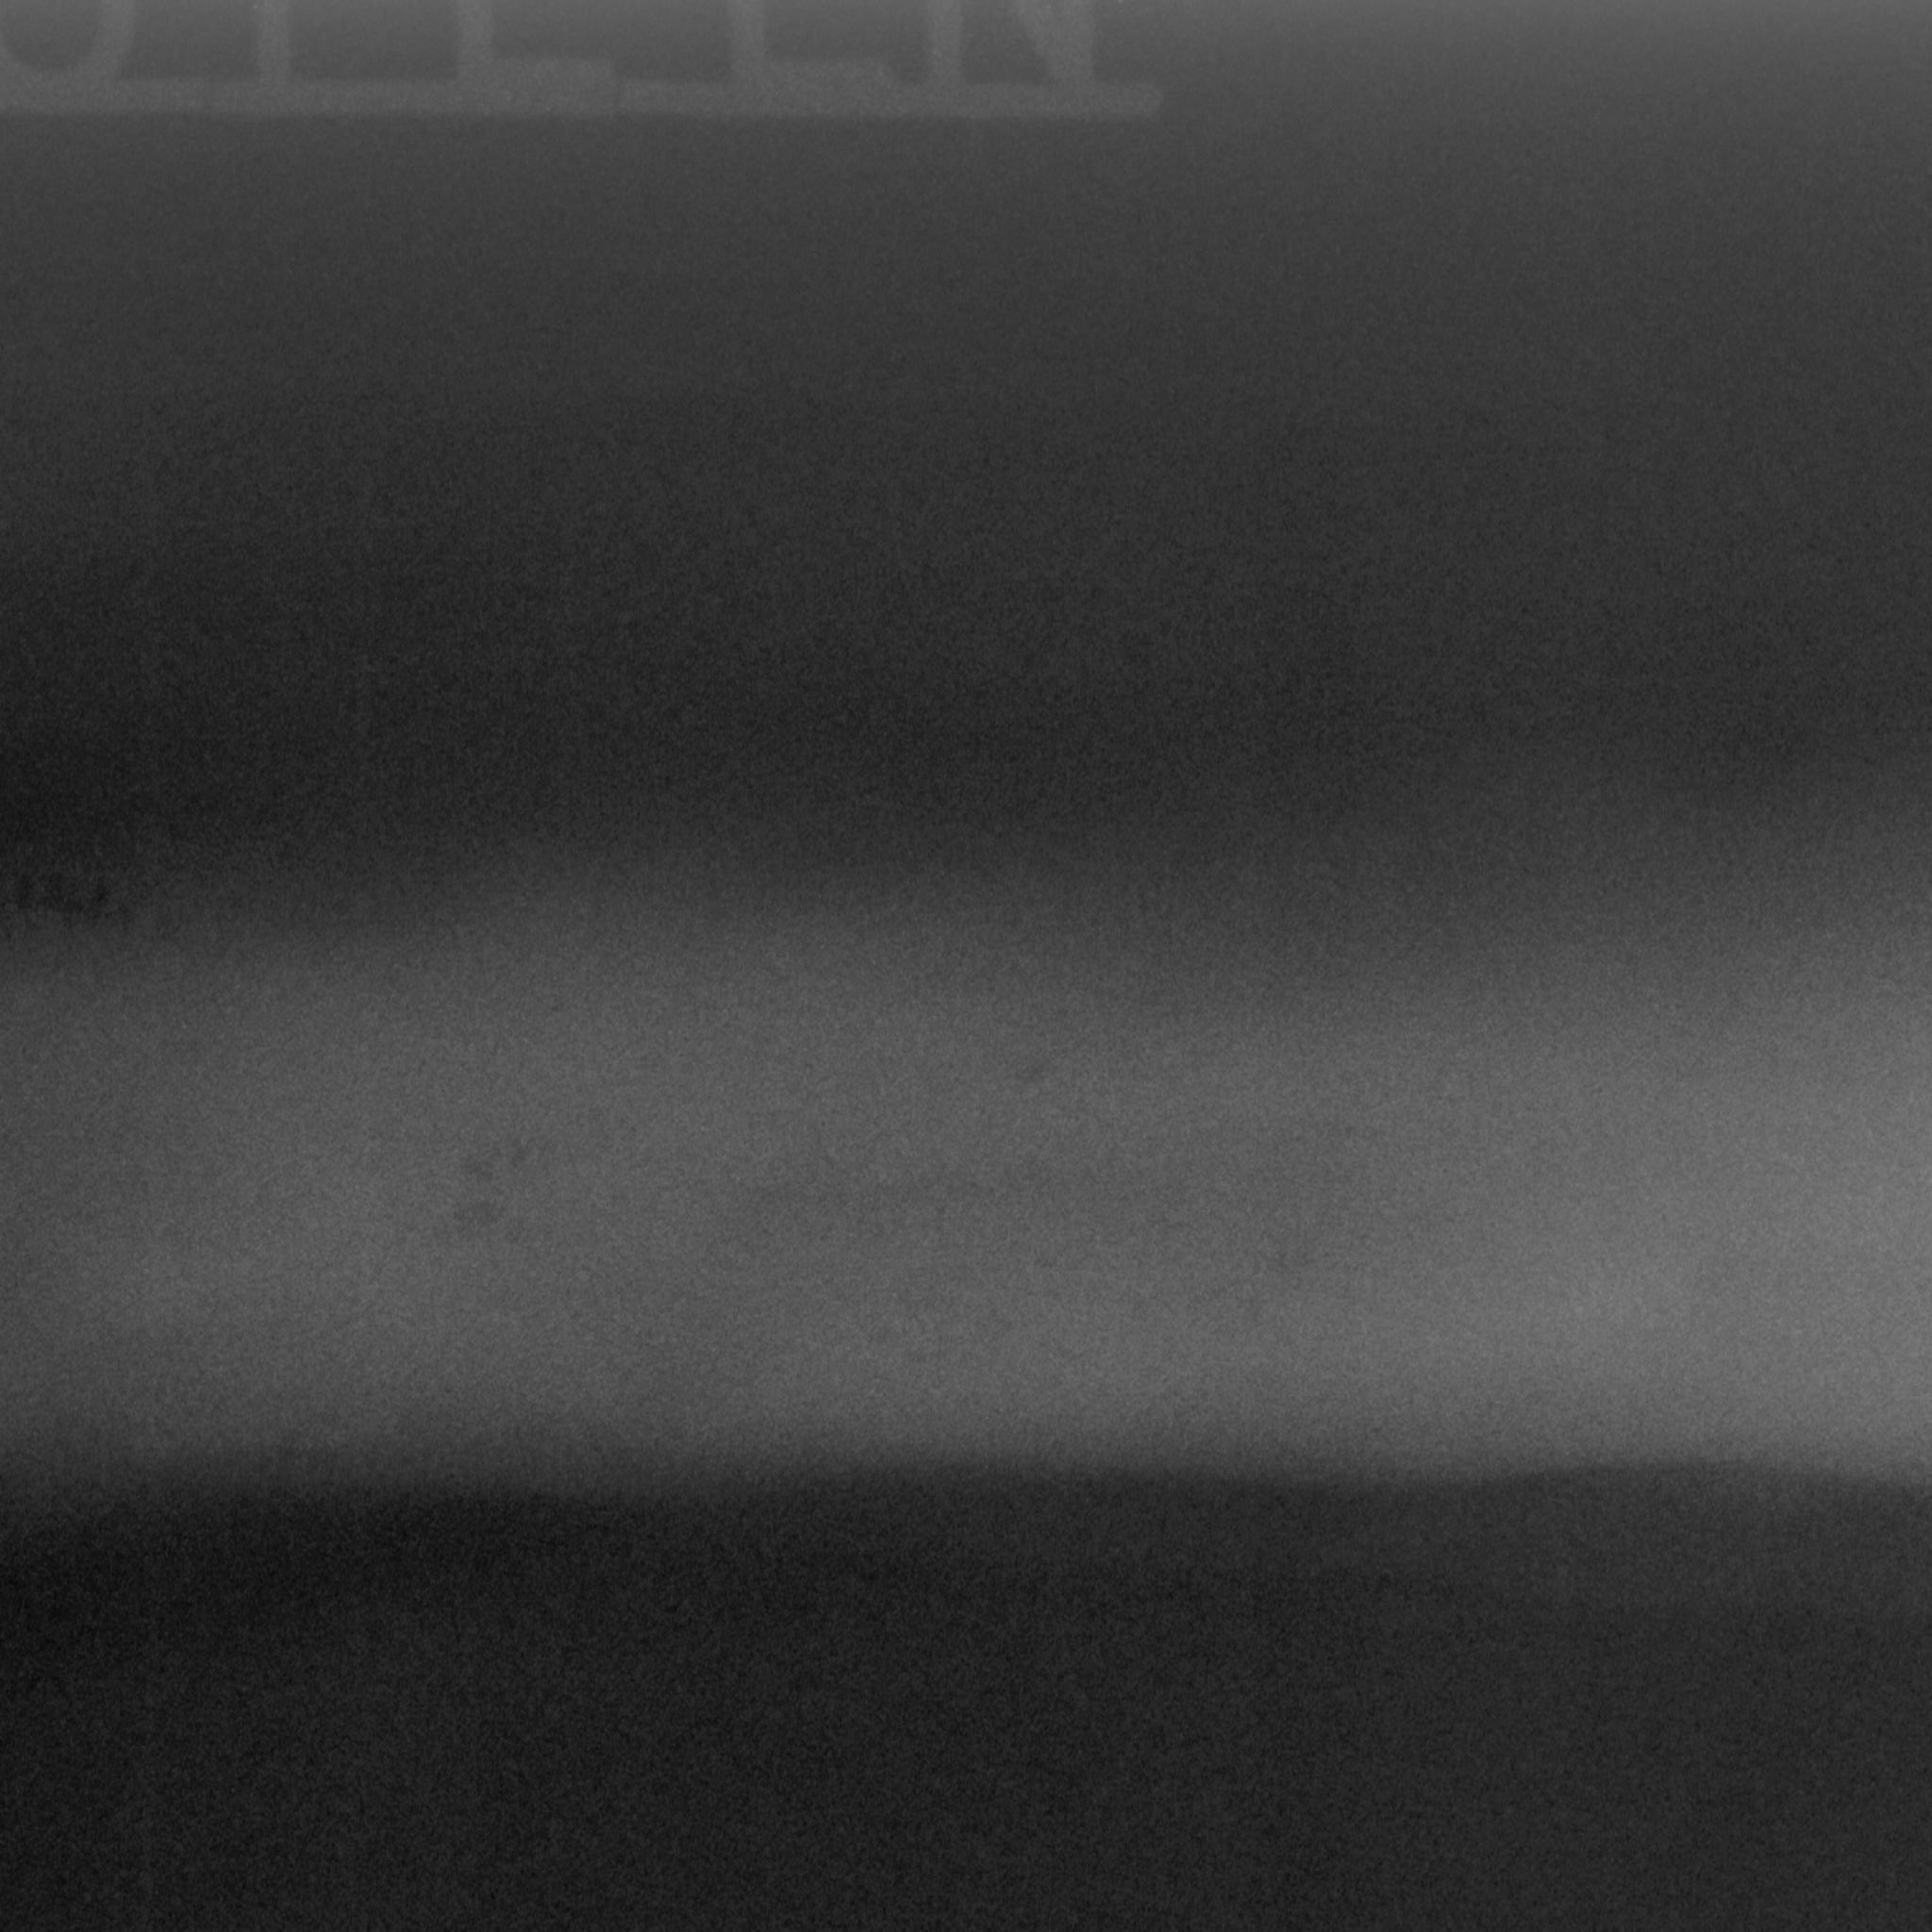Solda Ruim: (0, 758, 1932, 1575)
